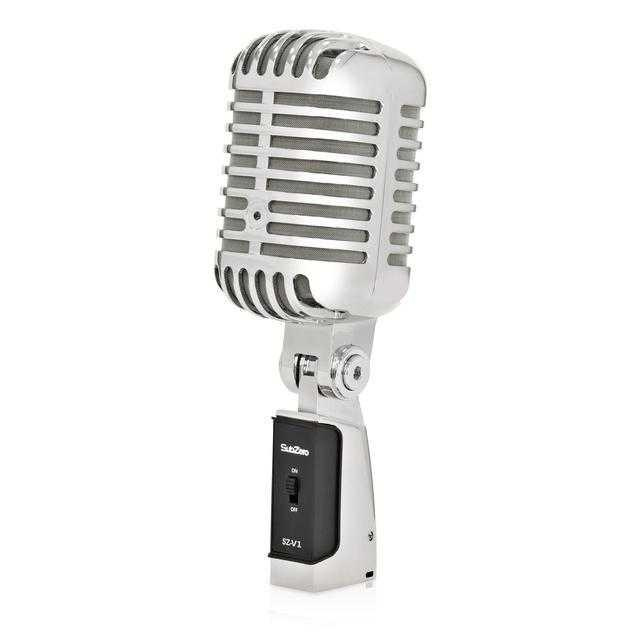microphone: (205, 12, 429, 374)
